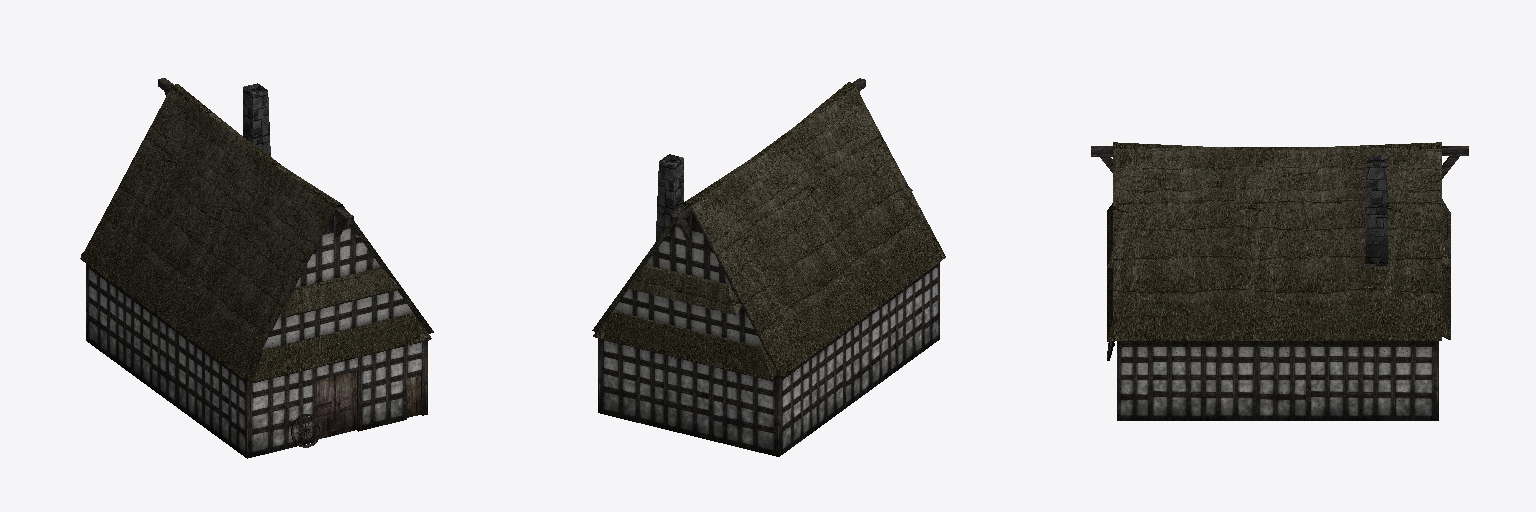
3 renders of one model, left to right at view 1: azimuth 30°, elevation 25°; view 2: azimuth 150°, elevation 25°; view 3: azimuth 270°, elevation 25°, orthographic.
Visible parts, largest first — view 1: scheune_house2; view 2: scheune_house2; view 3: scheune_house2.
Part boxes in pixels (x1,y1,x2,y2): scheune_house2: (80,78,433,458); scheune_house2: (592,78,945,456); scheune_house2: (1091,142,1468,420).
Size of the model in its own units: 9.64 by 11.71 by 16.59.
Materials: 13 (3 with a texture image).